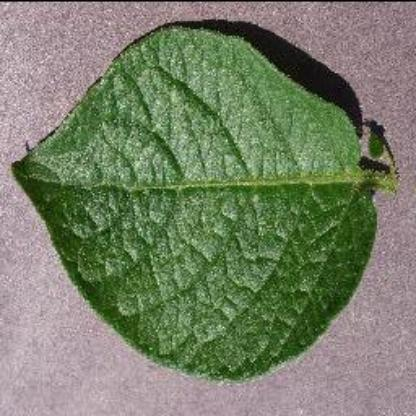Healthy-plant: (9, 20, 403, 382)
